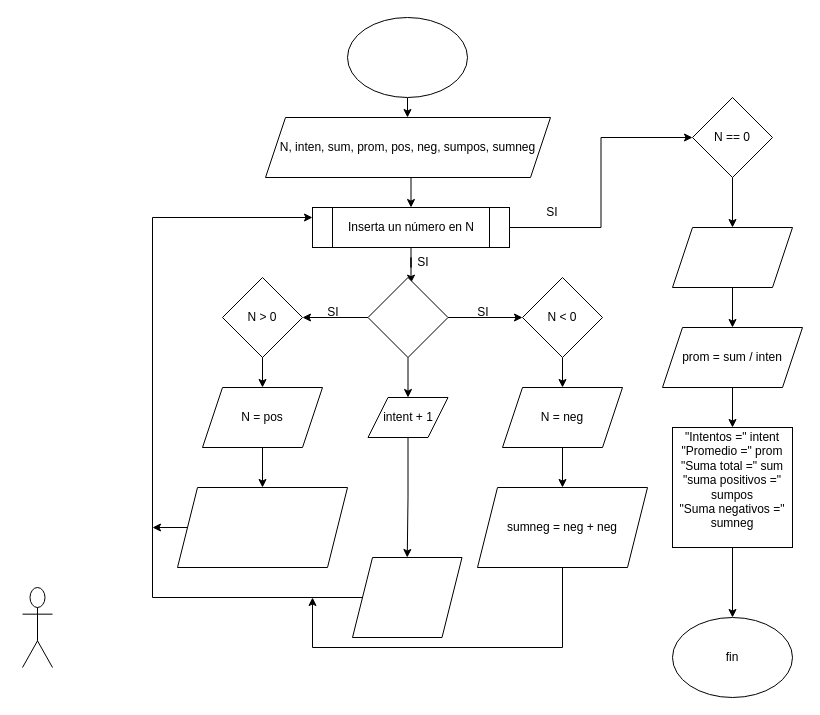
Some shapes in this 820 by 715 pixel diagram are drawn without their labels. Each missing label, with the centre of its shape:
INICIO: the point at 407,57
Intent - 1: the point at 732,257
N != 0: the point at 407,317
sum = N + N: the point at 407,597
sumpos = pos + pos: the point at 262,527
wallace: the point at 37,627
